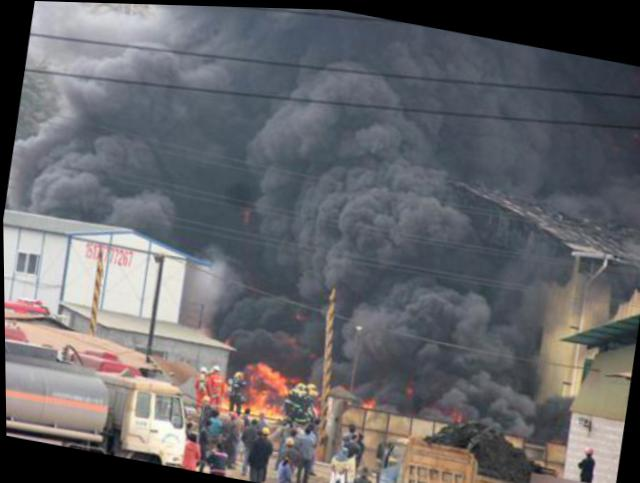fire: (248, 356, 287, 386), (243, 385, 282, 415)
